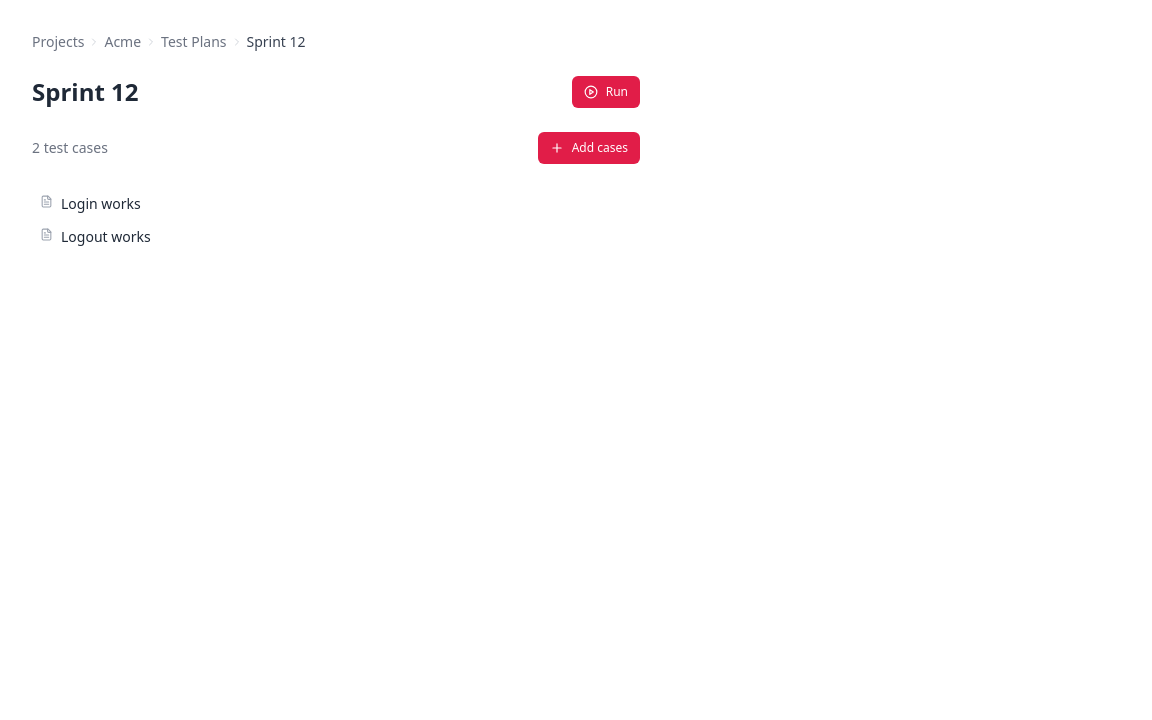
it: PlanDetailPage — add cases › opens add cases dialog on button click
The image size is (1152, 720).
Step 1. Click the button "Add cases" → x=589, y=148, box [538,132,640,164]
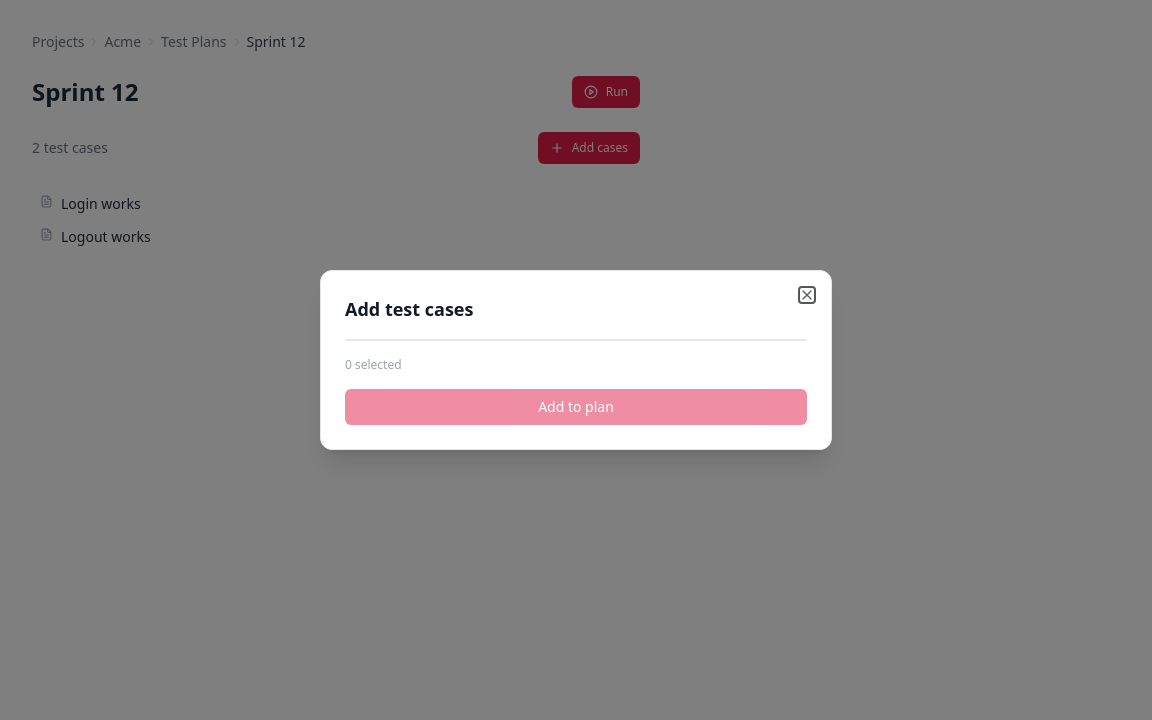
Result: the heading "Add test cases" is shown at [345,297,473,321]
